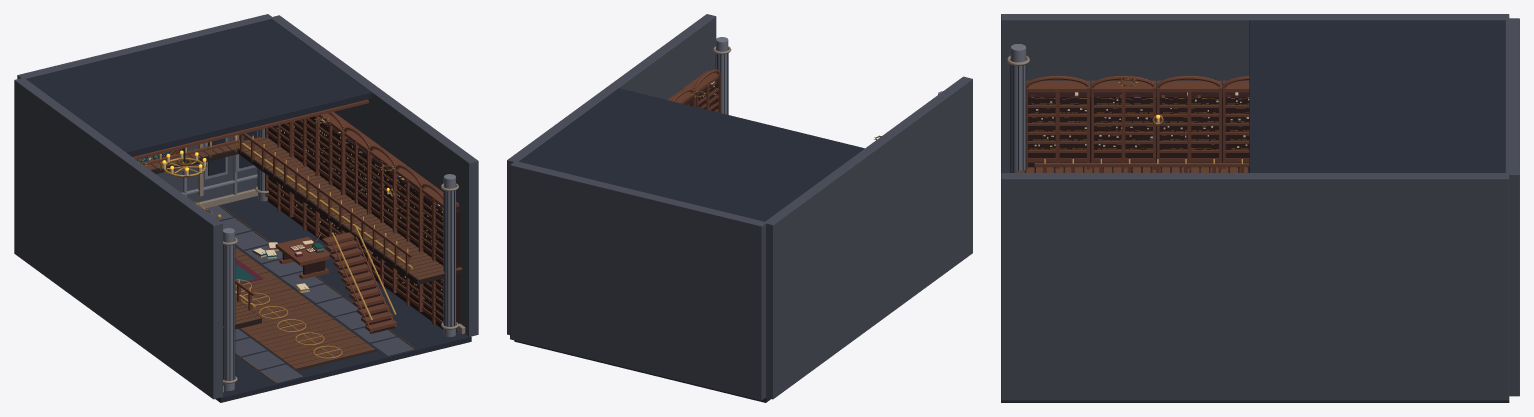
Rendered from midnight_library.glb.
3 renders of one model, left to right at view 1: azimuth 30°, elevation 25°; view 2: azimuth 150°, elevation 25°; view 3: azimuth 270°, elevation 25°, orthographic. The views are drawn at different scales.
Visible parts, largest first — view 1: MidnightLibrary_Stone_stone, MidnightLibrary_StoneDark_stone, MidnightLibrary_MahoganyEdge_wood_trim, MidnightLibrary_WoodWarm_wood, MidnightLibrary_Mahogany_wood, MidnightLibrary_StoneLight_stone, MidnightLibrary_Brass_metal, MidnightLibrary_WoodFloor_wood_floor, MidnightLibrary_Marble_stone_trim, MidnightLibrary_ParchmentLight_paper, MidnightLibrary_BrassDark_metal; view 2: MidnightLibrary_Stone_stone, MidnightLibrary_StoneDark_stone, MidnightLibrary_MahoganyEdge_wood_trim, MidnightLibrary_StoneLight_stone; view 3: MidnightLibrary_Stone_stone, MidnightLibrary_StoneDark_stone, MidnightLibrary_MahoganyEdge_wood_trim, MidnightLibrary_Mahogany_wood, MidnightLibrary_Brass_metal, MidnightLibrary_StoneLight_stone, MidnightLibrary_WoodWarm_wood.
Boxes of the visible parts, x1,y1,x2,y2 form: MidnightLibrary_Stone_stone: (14,14,478,399); MidnightLibrary_StoneDark_stone: (26,19,471,402); MidnightLibrary_MahoganyEdge_wood_trim: (133,99,459,333); MidnightLibrary_WoodWarm_wood: (142,137,462,368); MidnightLibrary_Mahogany_wood: (177,116,460,333); MidnightLibrary_StoneLight_stone: (181,128,455,391); MidnightLibrary_Brass_metal: (142,117,442,358); MidnightLibrary_WoodFloor_wood_floor: (147,137,462,370); MidnightLibrary_Marble_stone_trim: (196,143,465,392); MidnightLibrary_ParchmentLight_paper: (253,126,443,305); MidnightLibrary_BrassDark_metal: (139,117,414,382); MidnightLibrary_Stone_stone: (507,14,972,400); MidnightLibrary_StoneDark_stone: (514,49,864,402); MidnightLibrary_MahoganyEdge_wood_trim: (668,69,720,112); MidnightLibrary_StoneLight_stone: (716,37,942,114); MidnightLibrary_Stone_stone: (1001,14,1519,400); MidnightLibrary_StoneDark_stone: (1001,20,1509,402); MidnightLibrary_MahoganyEdge_wood_trim: (1026,75,1249,172); MidnightLibrary_Mahogany_wood: (1028,89,1249,168); MidnightLibrary_Brass_metal: (1030,78,1249,163); MidnightLibrary_StoneLight_stone: (1010,44,1026,172); MidnightLibrary_WoodWarm_wood: (1016,167,1249,172).
Size of what is drawn, in the model's own units: 16.92 by 10.92 by 22.46.
Materials: 25 (1 with a texture image).
